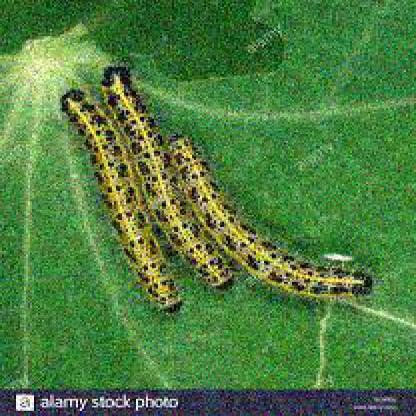pieris: (169, 133, 375, 298), (101, 64, 238, 293), (60, 89, 184, 317)
